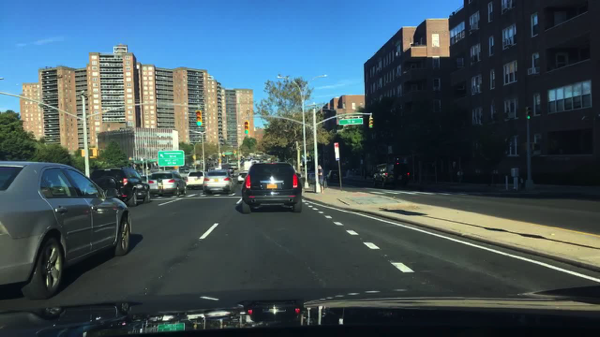car: (0, 161, 133, 301), (241, 162, 303, 214), (90, 168, 151, 207), (371, 162, 409, 188), (147, 172, 187, 196), (202, 171, 236, 195), (186, 172, 206, 189), (326, 169, 339, 182), (306, 172, 316, 184), (299, 167, 308, 180), (238, 172, 249, 182), (206, 157, 214, 167), (196, 161, 205, 169), (140, 176, 152, 182), (262, 156, 272, 162), (212, 165, 222, 171), (229, 157, 239, 162), (184, 167, 191, 174), (255, 157, 263, 163), (189, 162, 197, 168), (252, 155, 261, 160), (245, 157, 254, 162), (212, 159, 219, 165), (179, 166, 187, 171), (229, 169, 235, 175), (231, 162, 236, 169)
person: (316, 165, 324, 194)
traffic light: (195, 110, 204, 127), (89, 147, 100, 158), (243, 122, 250, 134), (530, 143, 540, 151), (524, 108, 531, 119), (368, 118, 374, 128), (80, 150, 87, 157), (192, 155, 196, 161), (217, 159, 222, 163)
traffic sign: (158, 151, 183, 165), (338, 119, 362, 126), (333, 143, 340, 160), (148, 158, 160, 163), (387, 146, 393, 154), (223, 151, 233, 155), (133, 161, 143, 164)
truck: (242, 162, 252, 169)
